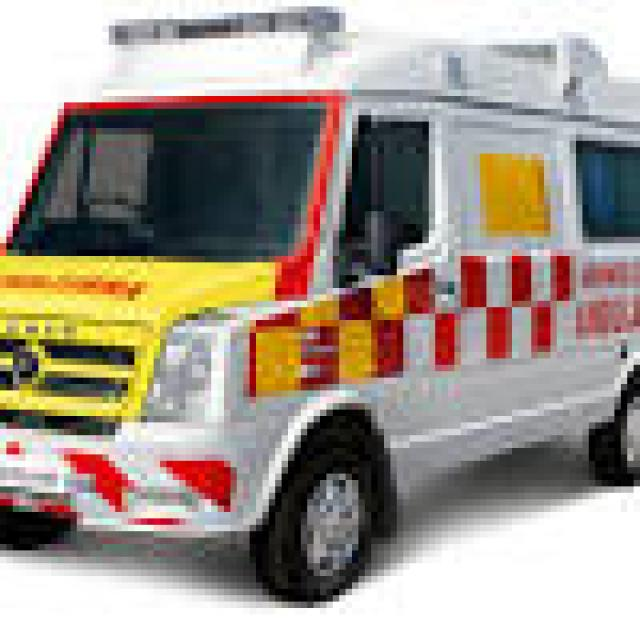ambulance: (21, 19, 640, 586)
